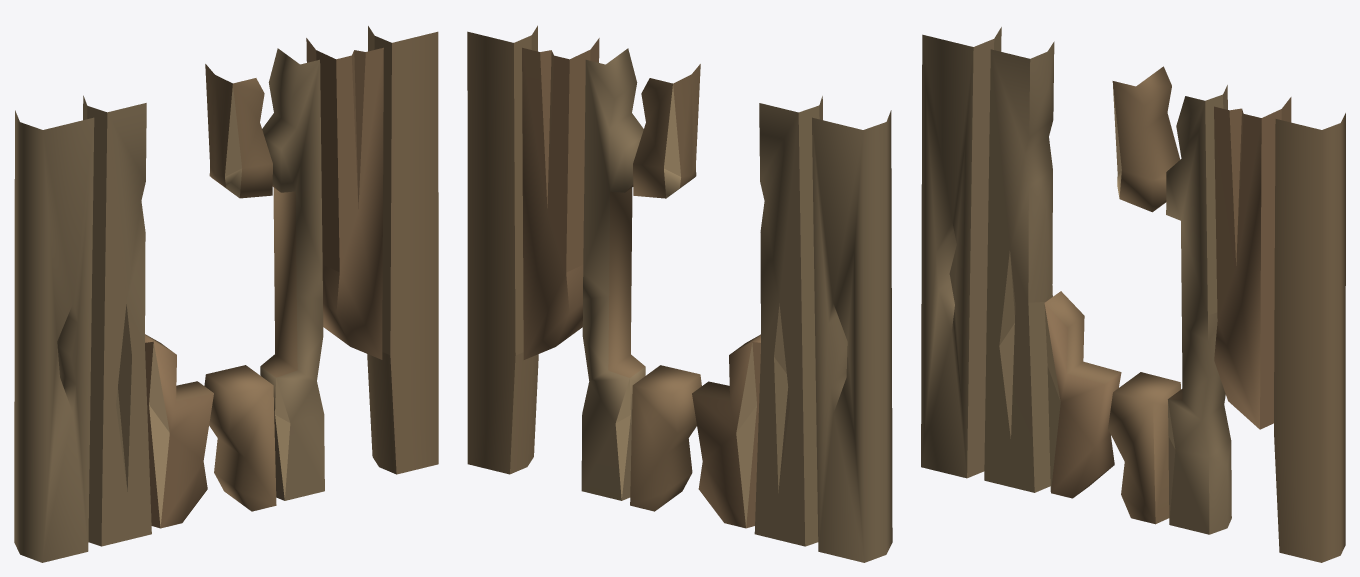
File: rpgpp_av_wall_02_3x3_window_03b.gltf
3 renders of one model, left to right at view 1: azimuth 30°, elevation 25°; view 2: azimuth 150°, elevation 25°; view 3: azimuth 330°, elevation 25°, orthographic.
Parts seen in each view (by area): view 1: rpgpp_av_wall_02_3x3_window_03b; view 2: rpgpp_av_wall_02_3x3_window_03b; view 3: rpgpp_av_wall_02_3x3_window_03b.
Boxes of the visible parts, bbox=[...] form: rpgpp_av_wall_02_3x3_window_03b: bbox=[14, 26, 438, 562]; rpgpp_av_wall_02_3x3_window_03b: bbox=[467, 25, 892, 562]; rpgpp_av_wall_02_3x3_window_03b: bbox=[921, 27, 1345, 562].
Size of the model in its own units: 0.03 by 0.03 by 0.00375.
Materials: 1 (1 with a texture image).
